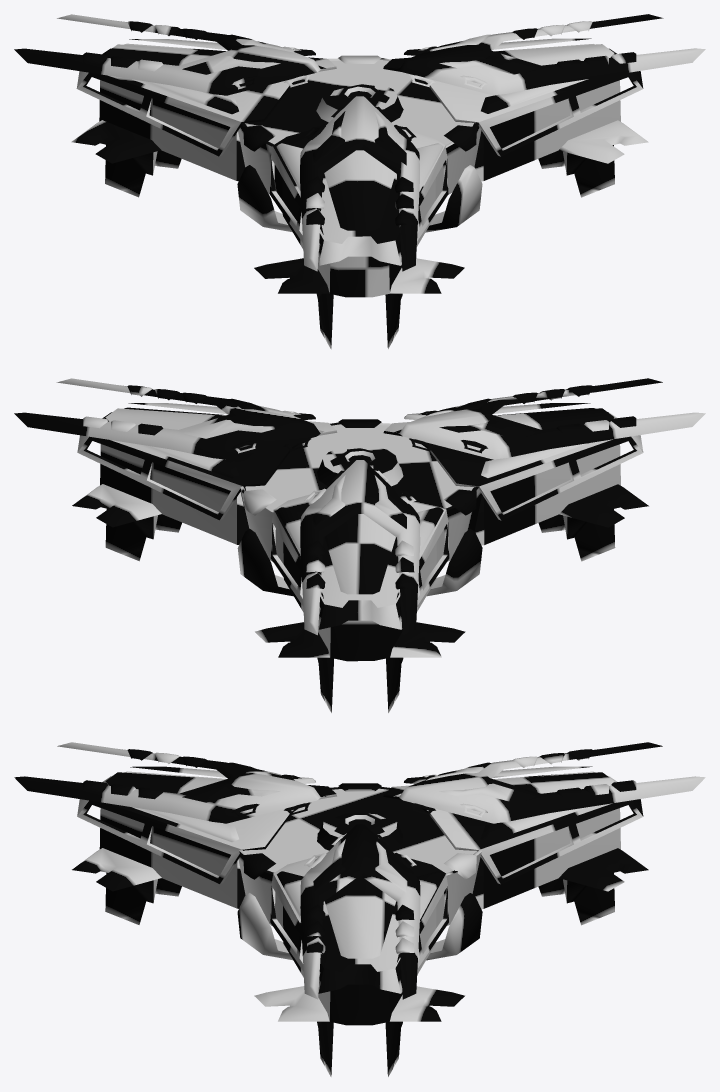
File: hitac_mothership.obj
3 renders of one model, top to bottom at view 1: azimuth 30°, elevation 25°; view 2: azimuth 150°, elevation 25°; view 3: azimuth 270°, elevation 25°, orthographic.
Visible parts, largest first — view 1: hitac, center, center_engine; view 2: hitac, center, center_engine; view 3: hitac, center, center_engine.
Boxes of the visible parts, bbox=[...] form: hitac: bbox=[14, 14, 705, 349]; center: bbox=[246, 60, 473, 144]; center_engine: bbox=[246, 81, 451, 145]; hitac: bbox=[14, 378, 705, 712]; center: bbox=[245, 424, 473, 509]; center_engine: bbox=[268, 445, 471, 509]; hitac: bbox=[14, 742, 705, 1076]; center: bbox=[244, 788, 476, 872]; center_engine: bbox=[267, 809, 453, 872].
Size of the model in its own units: 355 by 104 by 409.
Materials: 3 (3 with a texture image).
